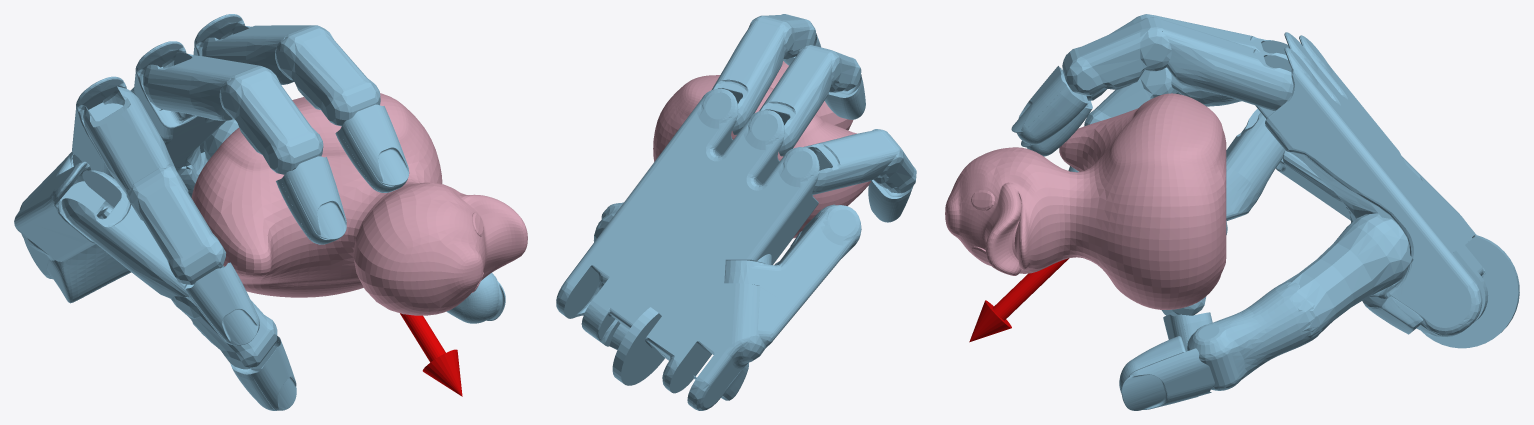
3 renders of one model, left to right at view 1: azimuth 30°, elevation 25°; view 2: azimuth 150°, elevation 25°; view 3: azimuth 270°, elevation 25°, orthographic. The views are drawn at different scales.
Parts seen in each view (by area): view 1: world, rubber_duck.stl; view 2: world, rubber_duck.stl; view 3: world, rubber_duck.stl.
Boxes of the visible parts, bbox=[...] form: world: bbox=[14, 14, 505, 410]; rubber_duck.stl: bbox=[191, 93, 527, 315]; world: bbox=[556, 14, 916, 410]; rubber_duck.stl: bbox=[653, 61, 870, 238]; world: bbox=[969, 14, 1519, 410]; rubber_duck.stl: bbox=[945, 93, 1226, 309].
Size of the model in its own units: 0.1362 by 0.1398 by 0.1959.
